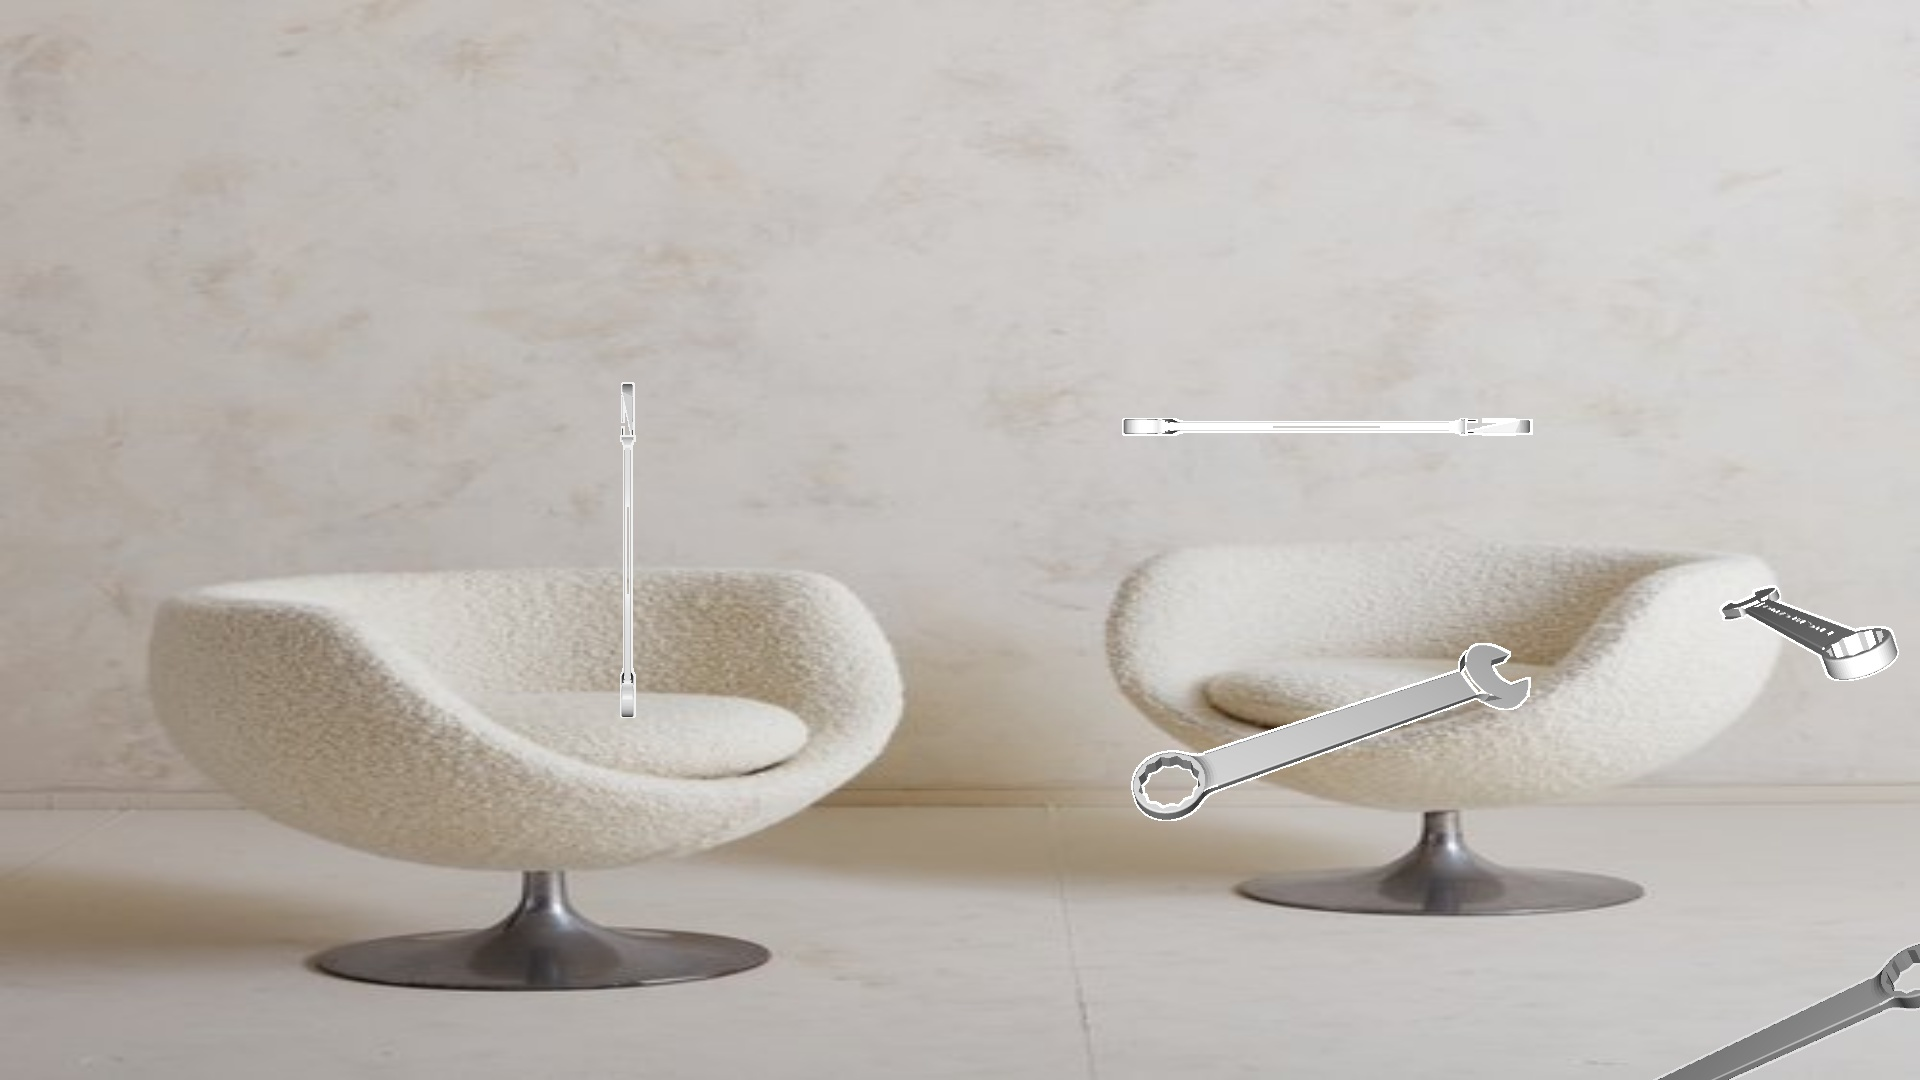Mixed Key: (1131, 644, 1530, 820), (1654, 942, 1919, 1079), (1720, 585, 1898, 680), (1122, 418, 1532, 435), (620, 382, 636, 717)
